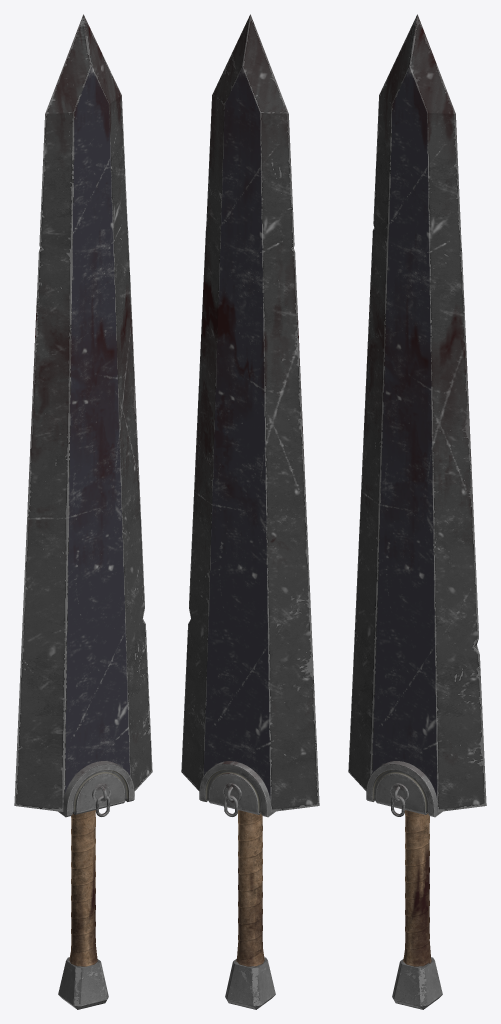
File: DragonSlayer.fbx
3 renders of one model, left to right at view 1: azimuth 30°, elevation 25°; view 2: azimuth 150°, elevation 25°; view 3: azimuth 330°, elevation 25°, orthographic.
Parts seen in each view (by area): view 1: Blade_low, Wrap_low, Guard_low, Pommel_low; view 2: Blade_low, Wrap_low, Guard_low, Pommel_low; view 3: Blade_low, Wrap_low, Guard_low, Pommel_low.
Part boxes in pixels (x1,y1,x2,y2): Blade_low: (14, 14, 152, 811); Wrap_low: (69, 810, 97, 966); Guard_low: (58, 761, 134, 817); Pommel_low: (58, 957, 108, 1009); Blade_low: (181, 14, 319, 811); Wrap_low: (236, 810, 264, 966); Guard_low: (199, 761, 275, 817); Pommel_low: (225, 957, 275, 1009); Blade_low: (348, 14, 486, 811); Wrap_low: (403, 810, 431, 966); Guard_low: (366, 761, 442, 817); Pommel_low: (392, 957, 442, 1009).
Bounding box in the file's own units: 45.04 × 307 × 25.53.
